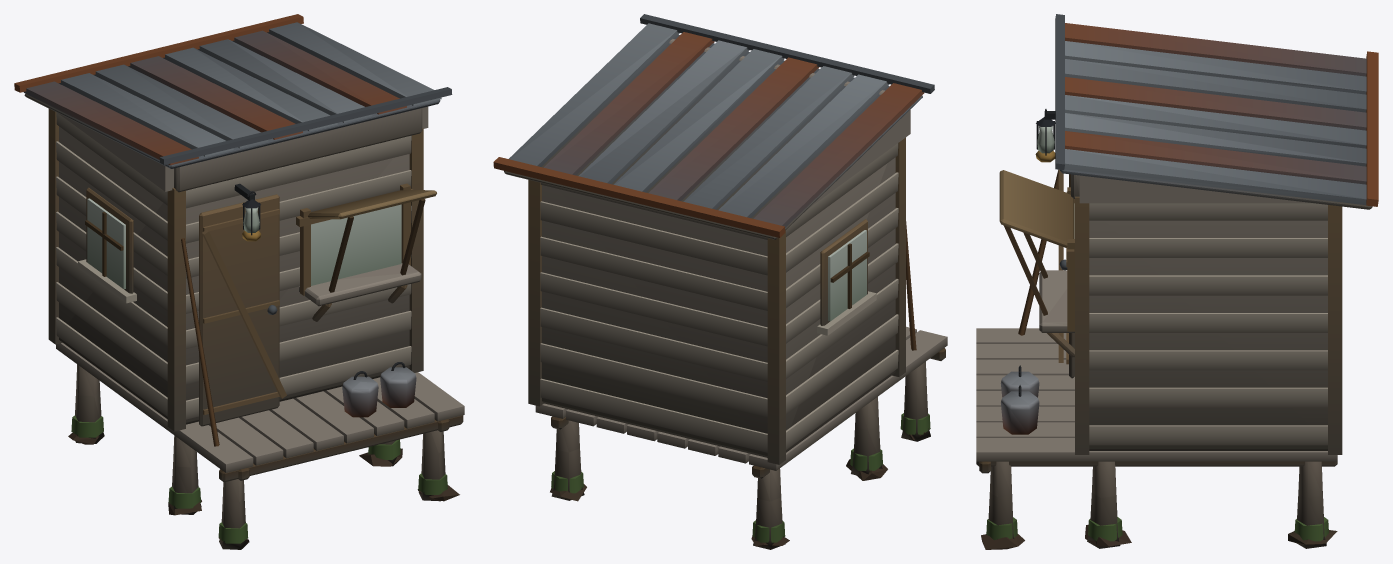
File: bait-shack.glb
3 views of the same model, side by side, from view 1: azimuth 30°, elevation 25°; view 2: azimuth 150°, elevation 25°; view 3: azimuth 270°, elevation 25° (orthographic). The views are drawn at different scales.
Parts seen in each view (by area): view 1: bait_shack; view 2: bait_shack; view 3: bait_shack.
Boxes of the visible parts, x1,y1,x2,y2 form: bait_shack: [14, 14, 464, 549]; bait_shack: [493, 14, 947, 549]; bait_shack: [976, 14, 1378, 549].
Bounding box in the file's own units: 2.74 × 3.46 × 3.12.
